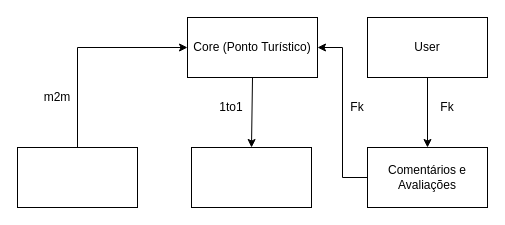
This 505x225 diagram has some shape labels left out. Each missing label, with the centre of its shape:
"Atração" goes at point 77,177.
"Localização" goes at point 251,177.
